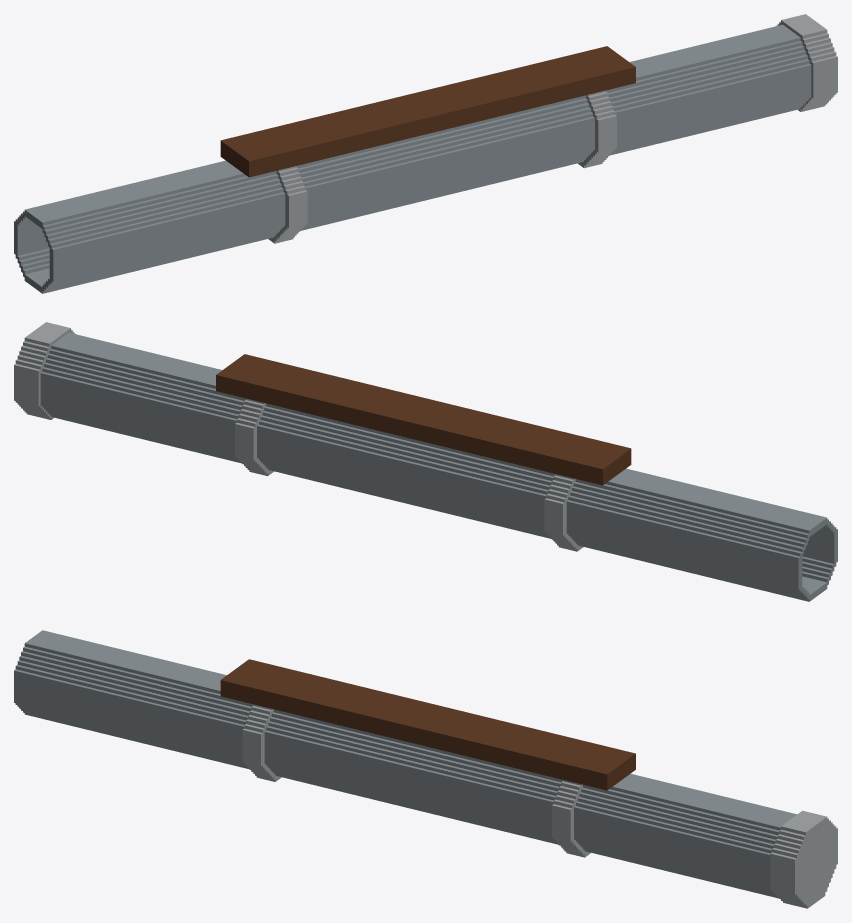
File: pipe_quiver.glb
The picture shows the model from 3 angles, top to bottom: view 1: azimuth 30°, elevation 25°; view 2: azimuth 150°, elevation 25°; view 3: azimuth 330°, elevation 25°; orthographic projection.
Parts seen in each view (by area): view 1: pipe_quiver:compound; view 2: pipe_quiver:compound; view 3: pipe_quiver:compound.
Part boxes in pixels (bbox=[...]): pipe_quiver:compound: bbox=[14, 14, 837, 293]; pipe_quiver:compound: bbox=[14, 322, 837, 601]; pipe_quiver:compound: bbox=[14, 630, 837, 908].
Bounding box in the file's own units: 0.506 × 0.058 × 0.052.
